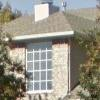Chimney: (30, 0, 59, 23)
